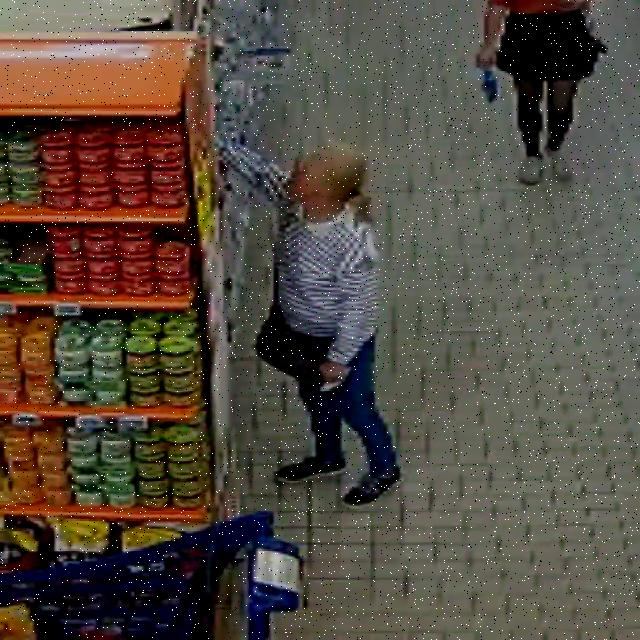article: (481, 69, 497, 103)
bags: (256, 303, 330, 381)
hands: (320, 361, 349, 383), (476, 45, 497, 70)
person: (217, 139, 401, 507), (477, 0, 594, 184)
